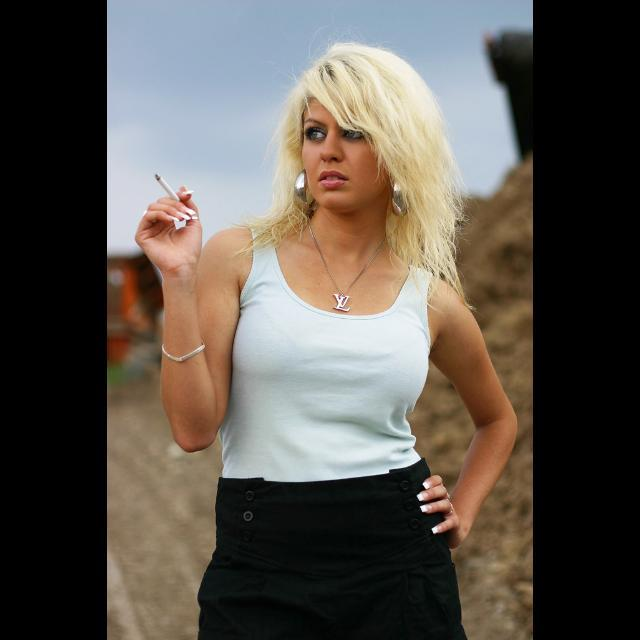rokok: (152, 170, 182, 202)
